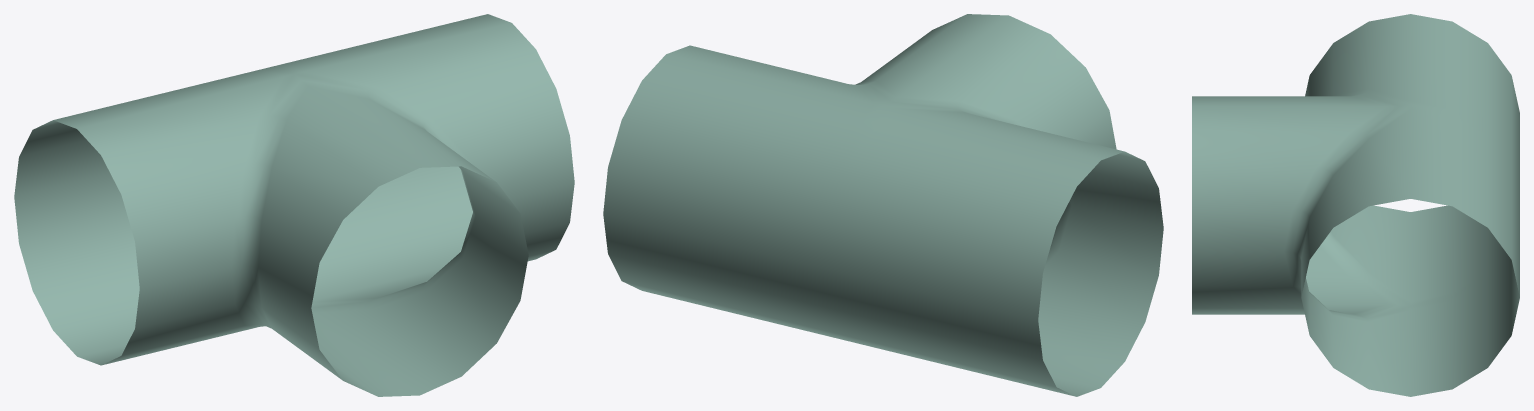
The model's file is PipeLarge_Cross_T.fbx.
The picture shows the model from 3 angles, left to right: view 1: azimuth 30°, elevation 25°; view 2: azimuth 150°, elevation 25°; view 3: azimuth 270°, elevation 25°; orthographic projection. The views are drawn at different scales.
Visible parts, largest first — view 1: PipeLarge_Cross_T.001; view 2: PipeLarge_Cross_T.001; view 3: PipeLarge_Cross_T.001.
Boxes of the visible parts, x1,y1,x2,y2 form: PipeLarge_Cross_T.001: (14,14,574,396); PipeLarge_Cross_T.001: (603,14,1163,396); PipeLarge_Cross_T.001: (1192,14,1519,396).
Size of the model in its own units: 0.4 by 0.2032 by 0.3.
